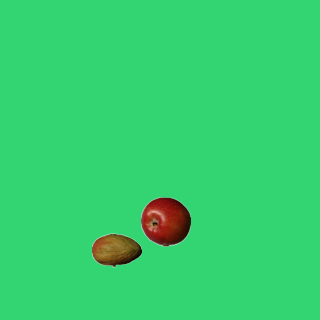Apple Braeburn: (140, 196, 190, 246)
Papaya: (91, 225, 141, 275)
